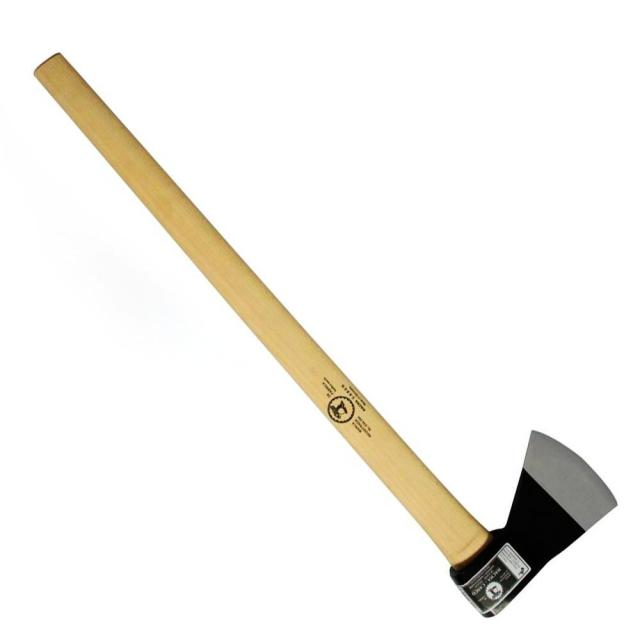Kapak: (26, 43, 598, 610)
